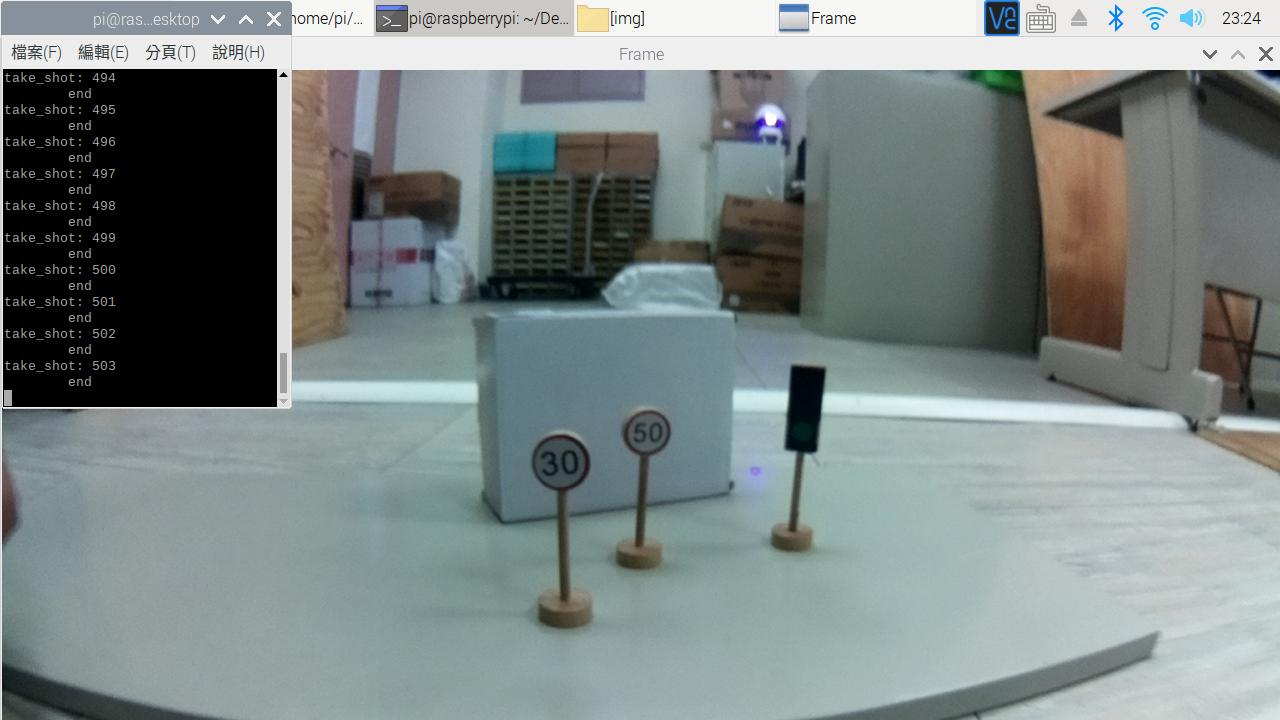Green: (770, 348, 824, 469)
Speed30: (524, 425, 607, 504)
Speed50: (617, 400, 676, 461)
